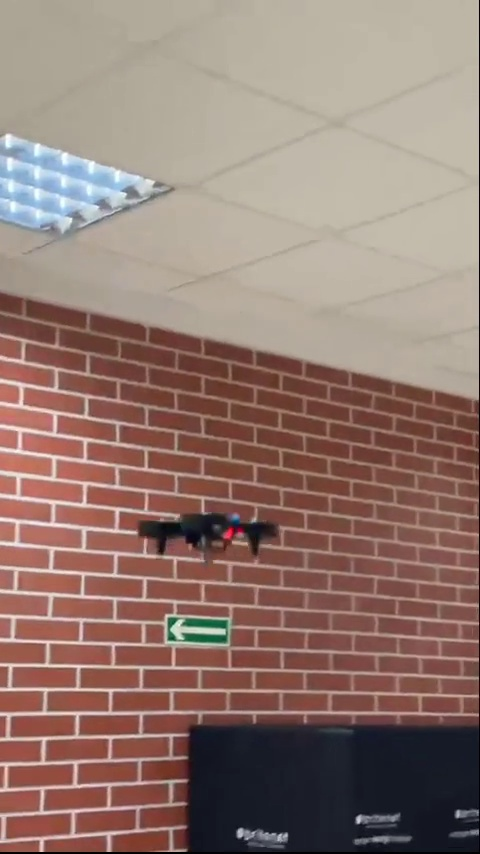drone: (141, 514, 282, 565)
